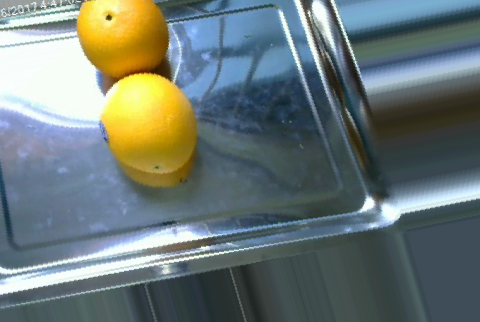Orange: (99, 72, 195, 174), (75, 1, 168, 79)
